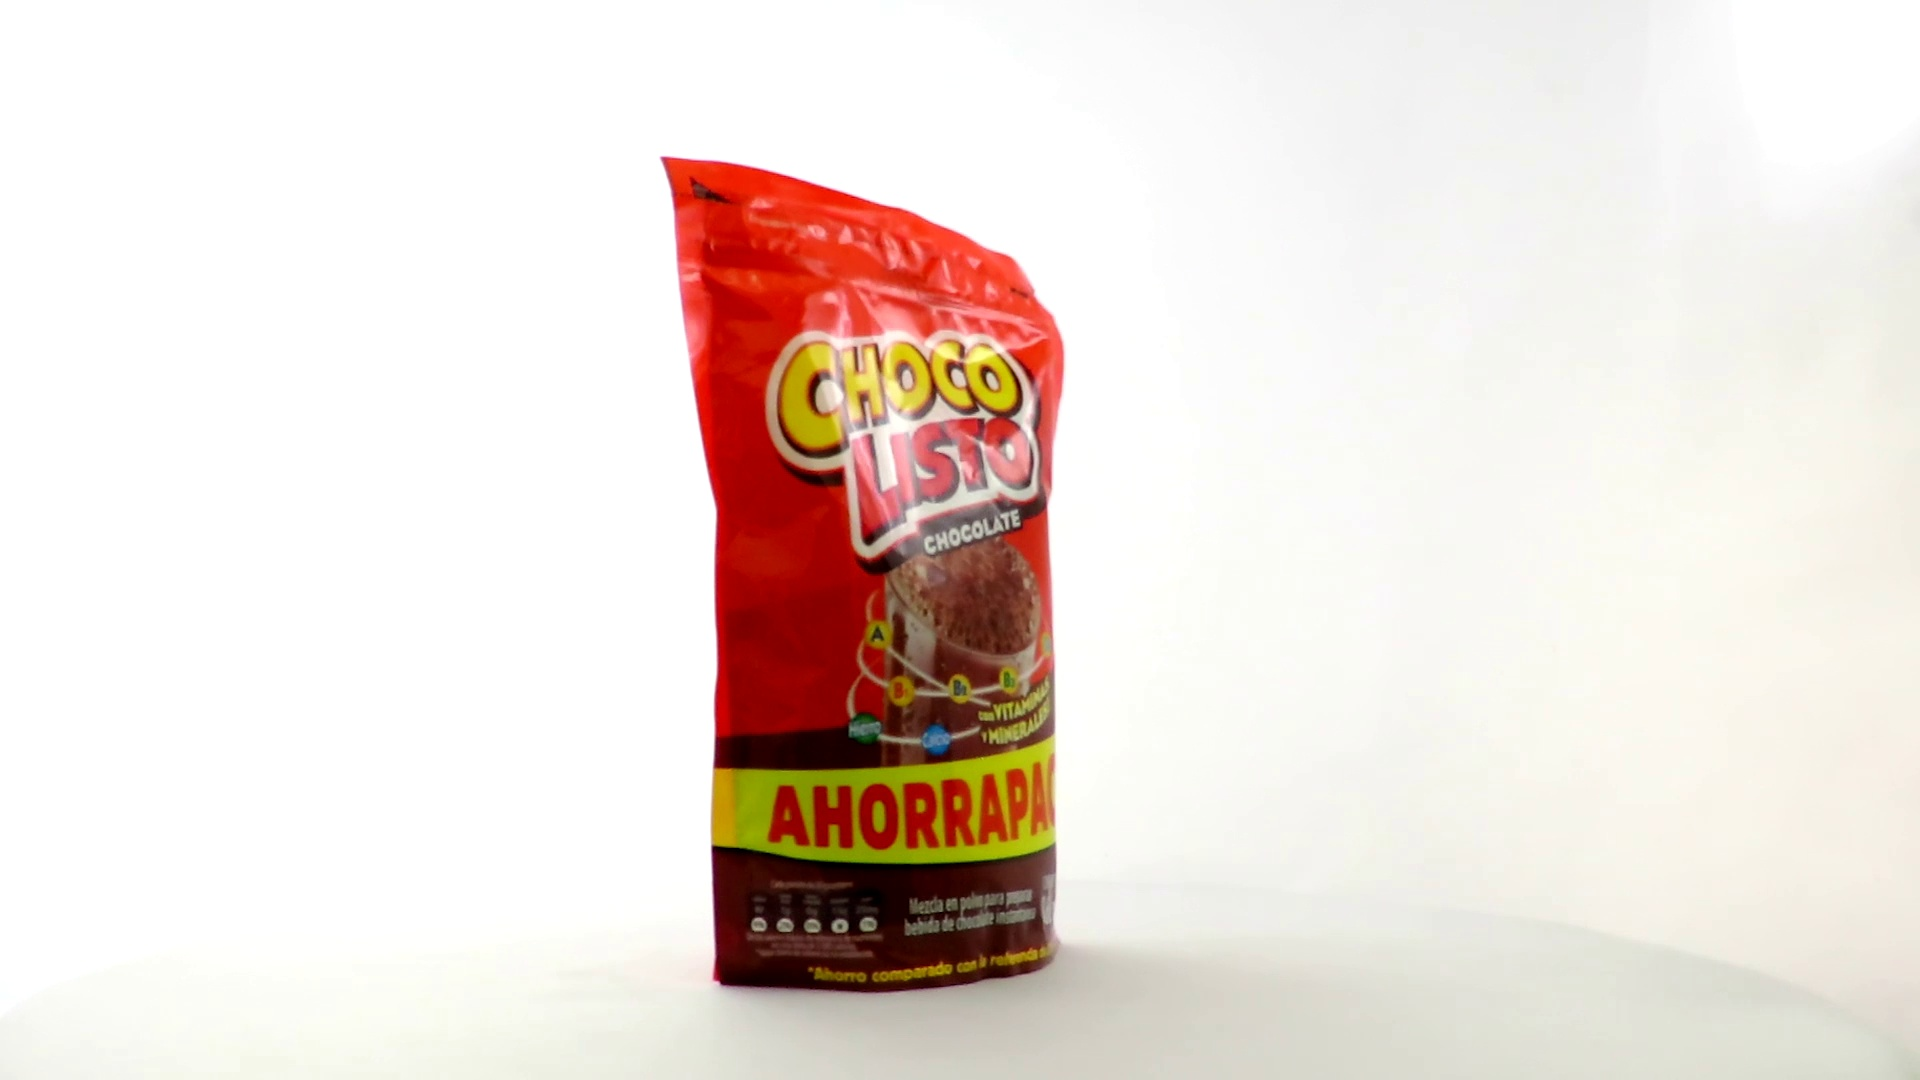COL0170103DYP36000: (655, 152, 1083, 1000)
